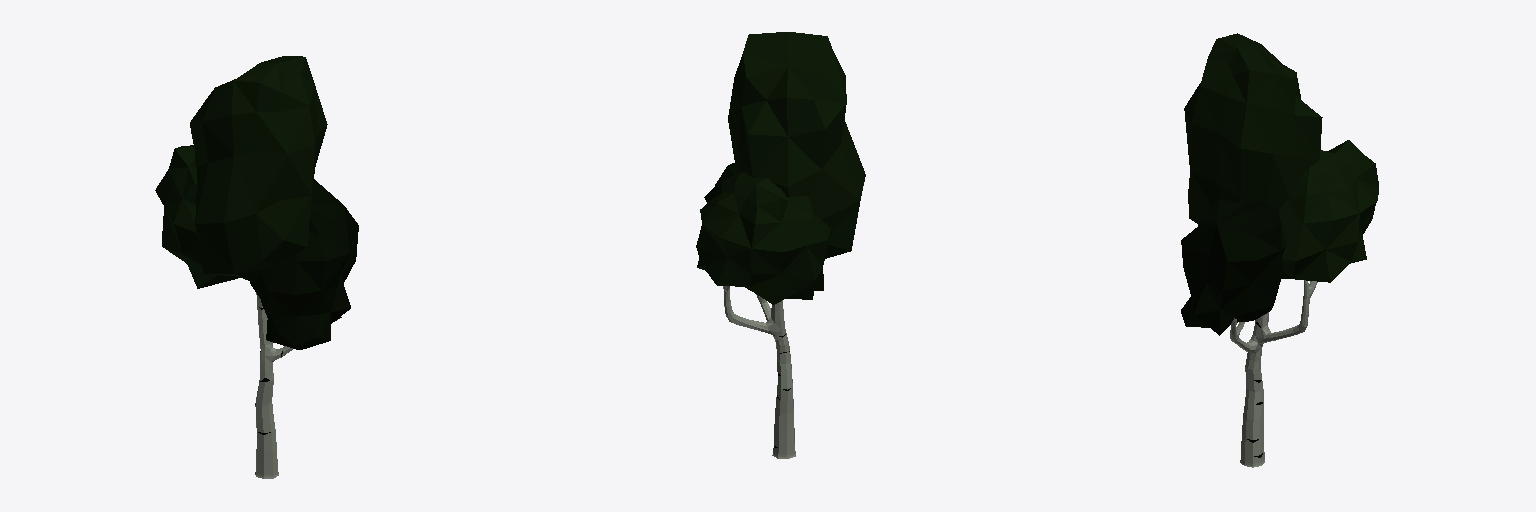
Rendered from BirchTree_3.obj.
3 renders of one model, left to right at view 1: azimuth 30°, elevation 25°; view 2: azimuth 150°, elevation 25°; view 3: azimuth 270°, elevation 25°, orthographic.
Parts seen in each view (by area): view 1: BirchTree_3_Cube.065; view 2: BirchTree_3_Cube.065; view 3: BirchTree_3_Cube.065.
Part boxes in pixels (left/top/right/bottom): BirchTree_3_Cube.065: left=155, top=56, right=358, bottom=478; BirchTree_3_Cube.065: left=696, top=32, right=865, bottom=458; BirchTree_3_Cube.065: left=1181, top=33, right=1378, bottom=467.
Bounding box in the file's own units: 1.57 × 4.09 × 1.77.